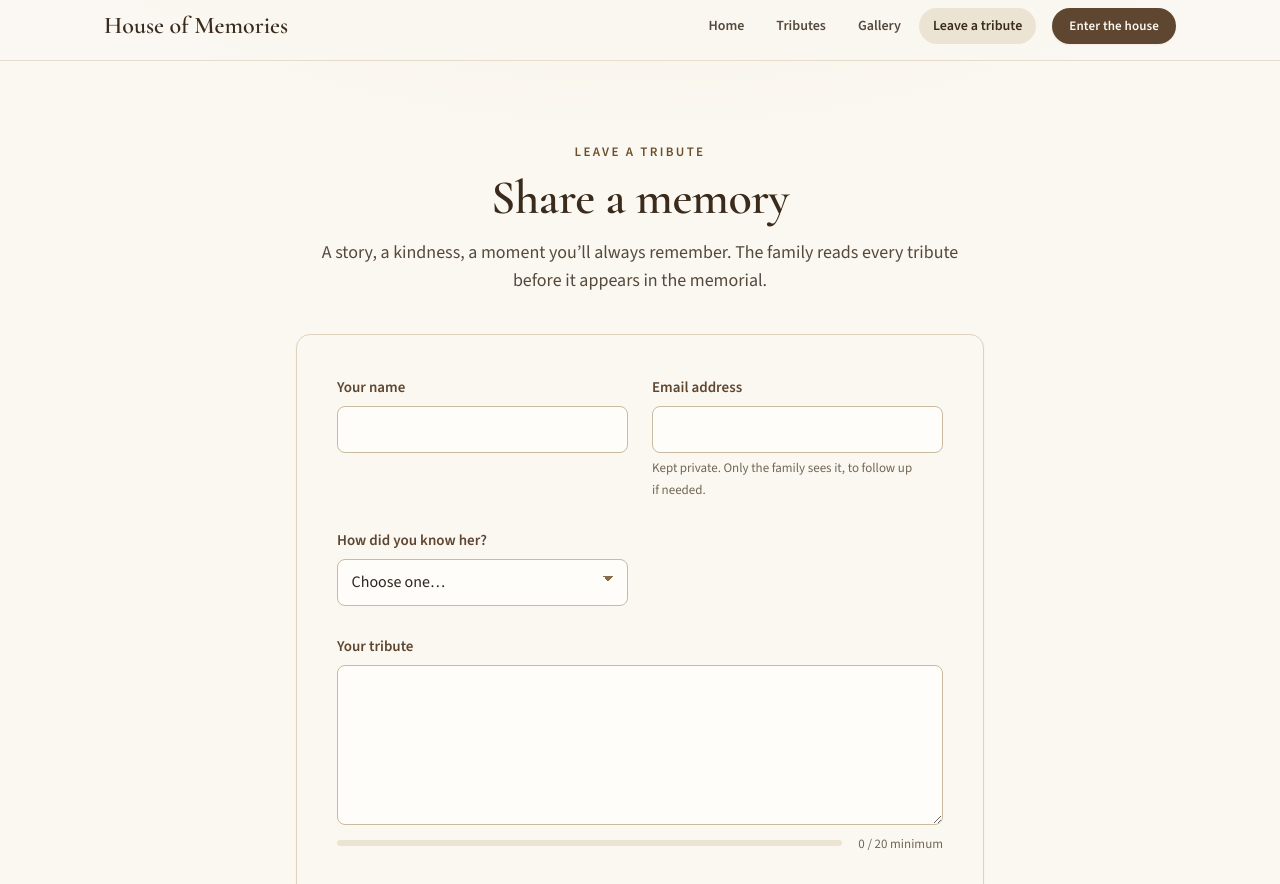
Test: tribute submission form › validates email format, minimum length from config, and the custom relationship for “Other”
This screenshot has width=1280, height=884.
Type "Jane" into the field labelled "Your name" at (482, 430), box top-left (337, 406), bottom-right (628, 453)
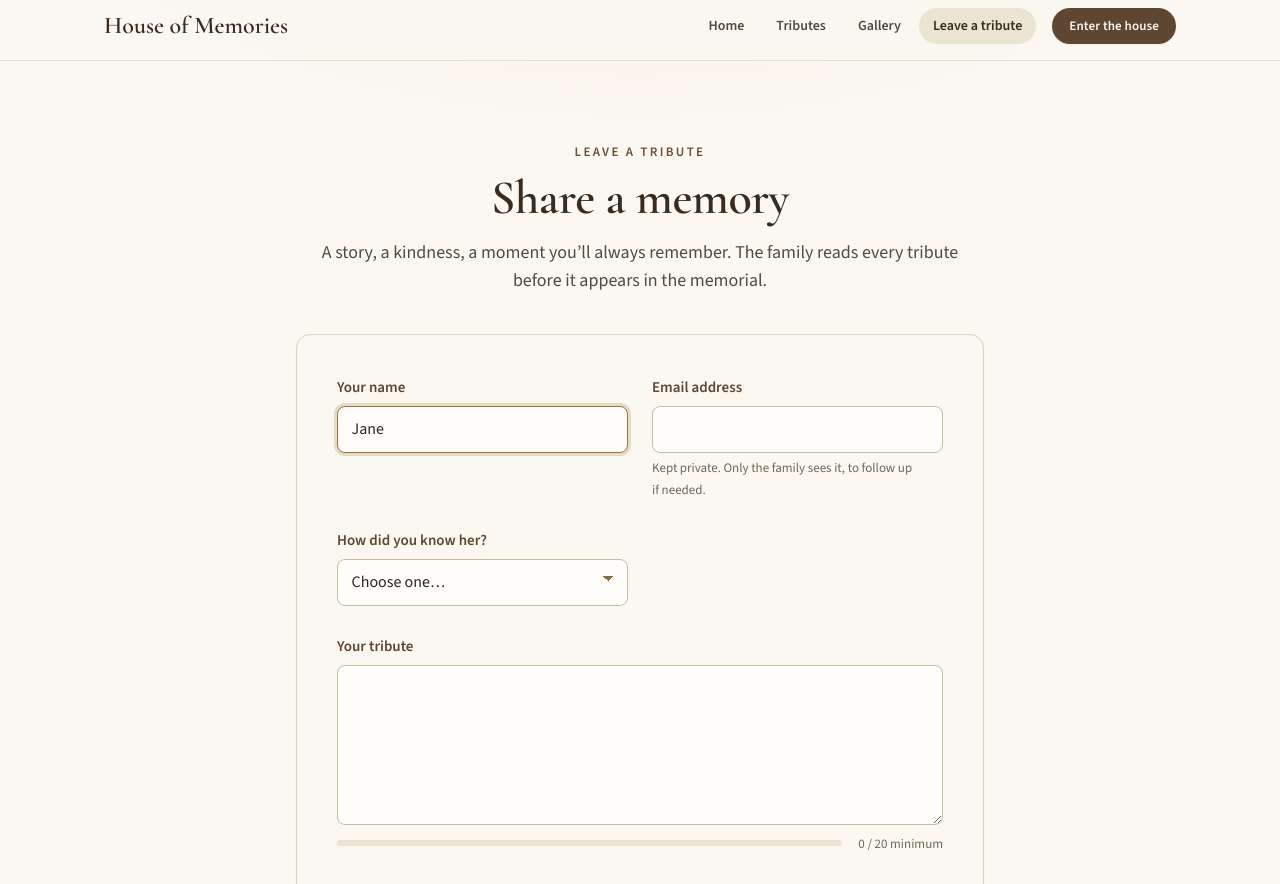
Type "not-an-email" into the field labelled "Email address" at (798, 430), box top-left (652, 406), bottom-right (943, 453)
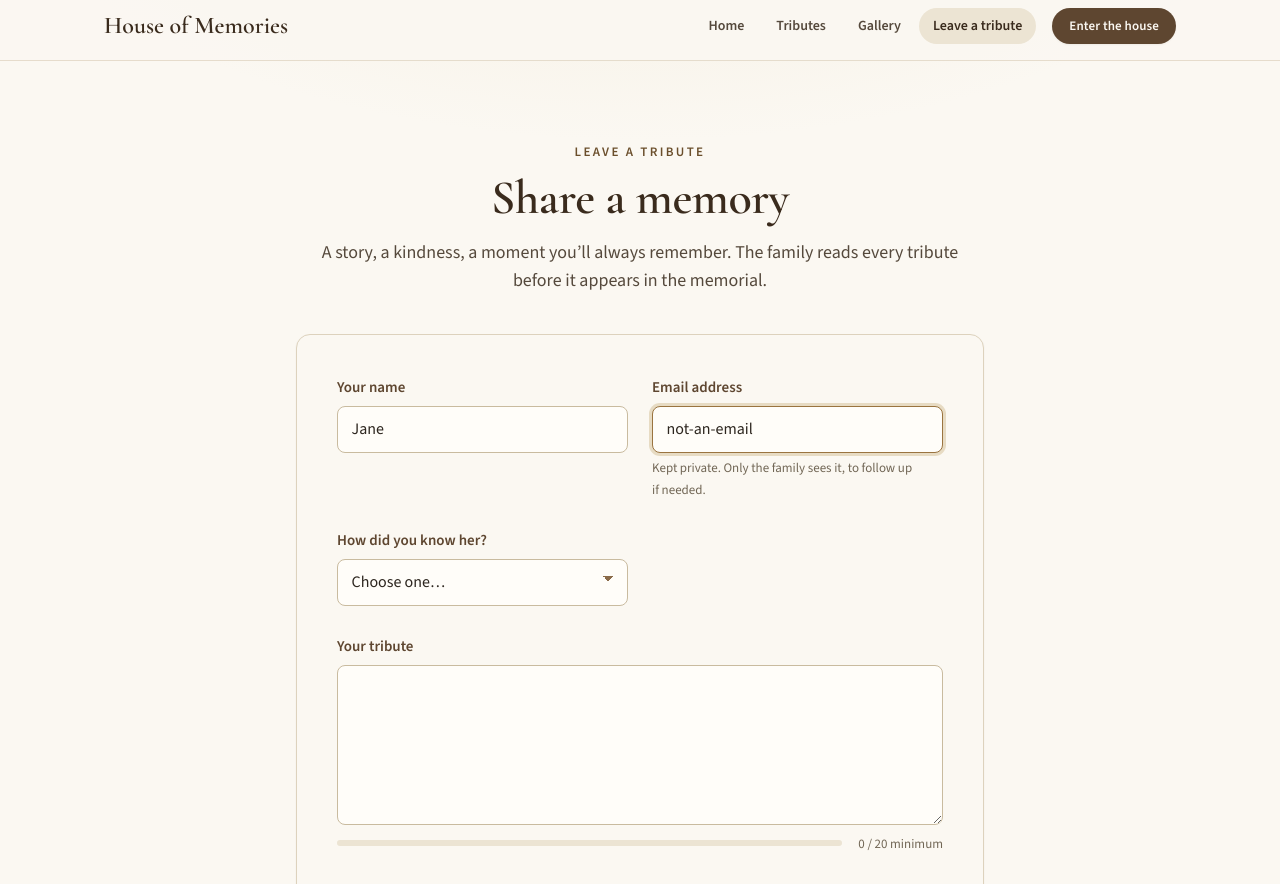
Select "Other" in the dropdown labelled "How did you know her?" at (482, 582), box top-left (337, 559), bottom-right (628, 606)
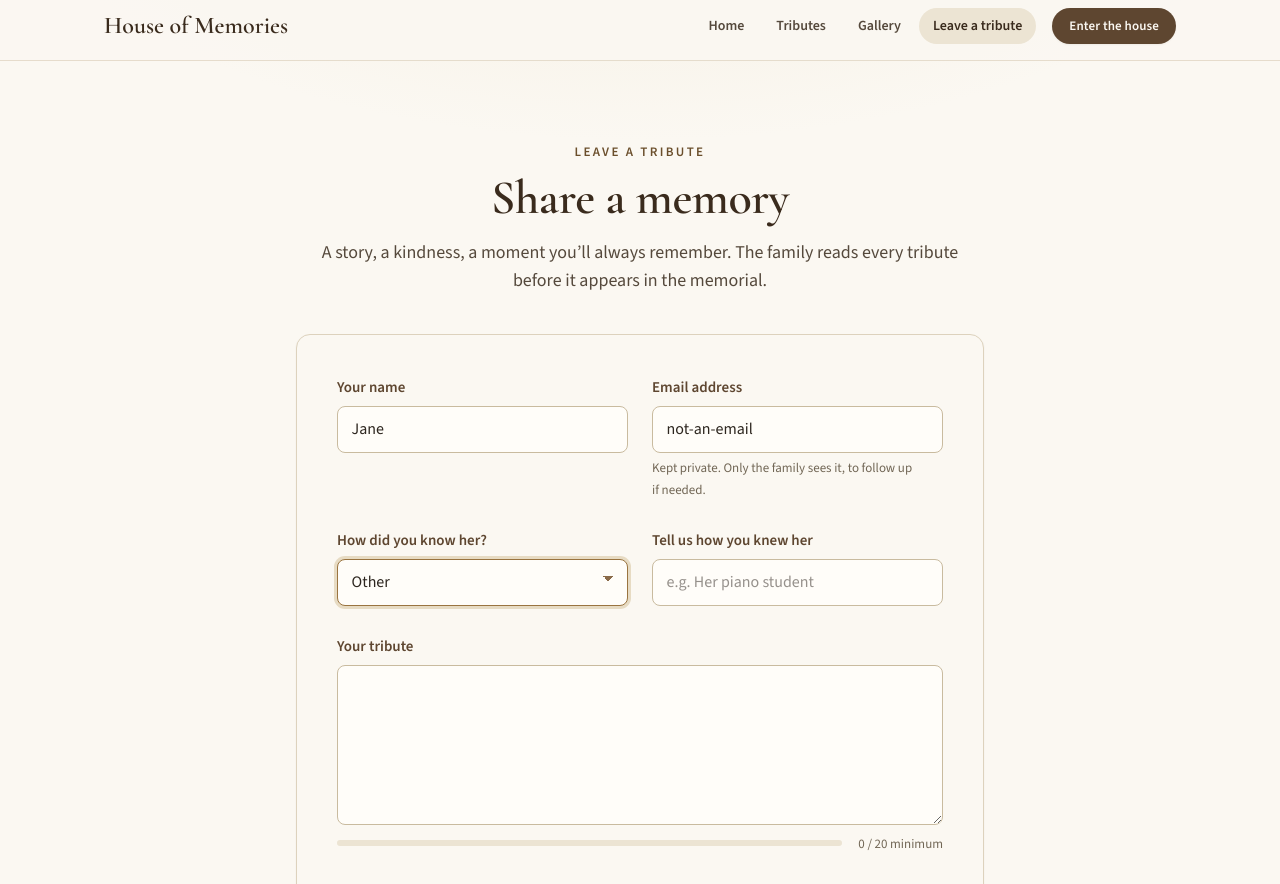
Type "too short" into the text box labelled "Your tribute" at (640, 744), box top-left (337, 664), bottom-right (943, 824)
(page scrolled)
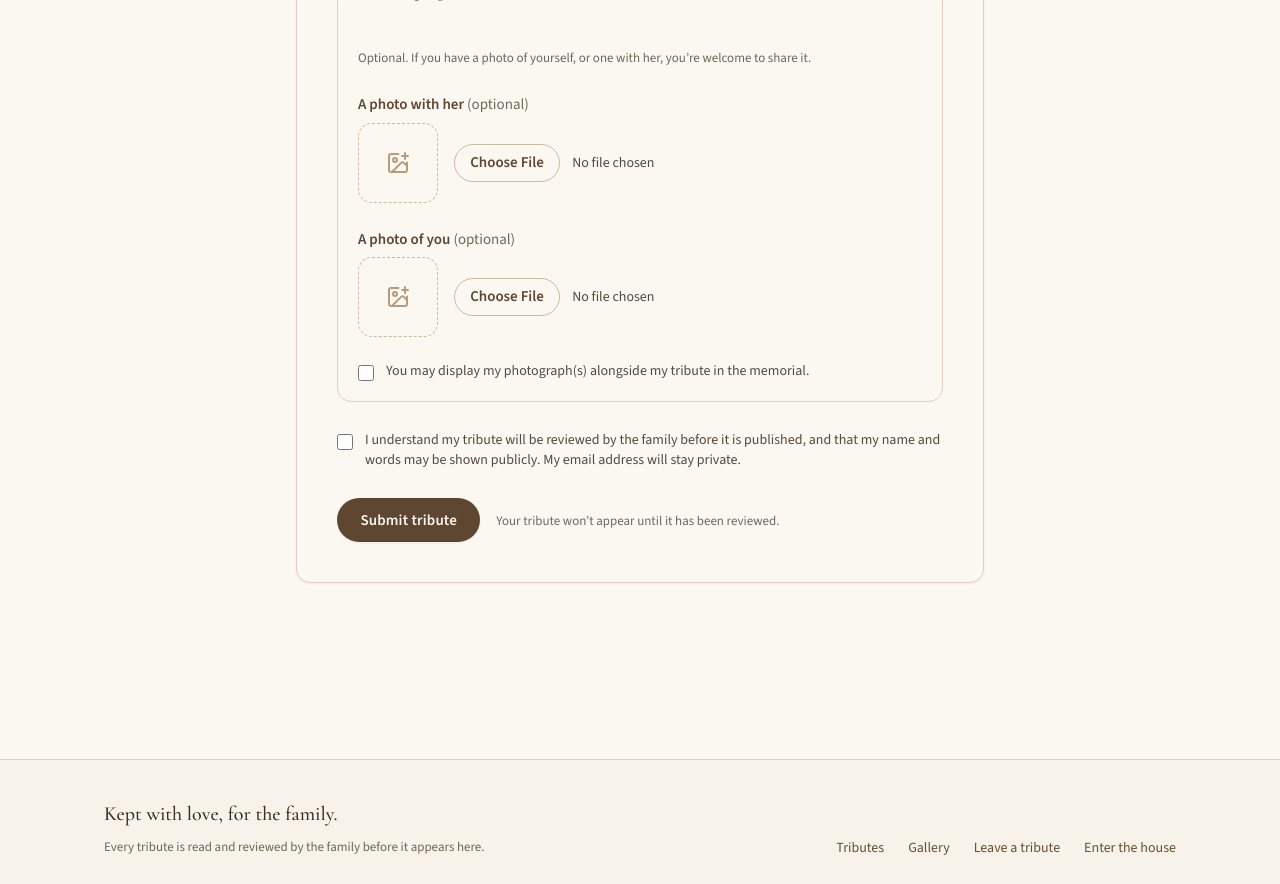
Click the checkbox labelled "I understand my tribute will be reviewed" at (345, 442), box top-left (337, 434), bottom-right (353, 450)
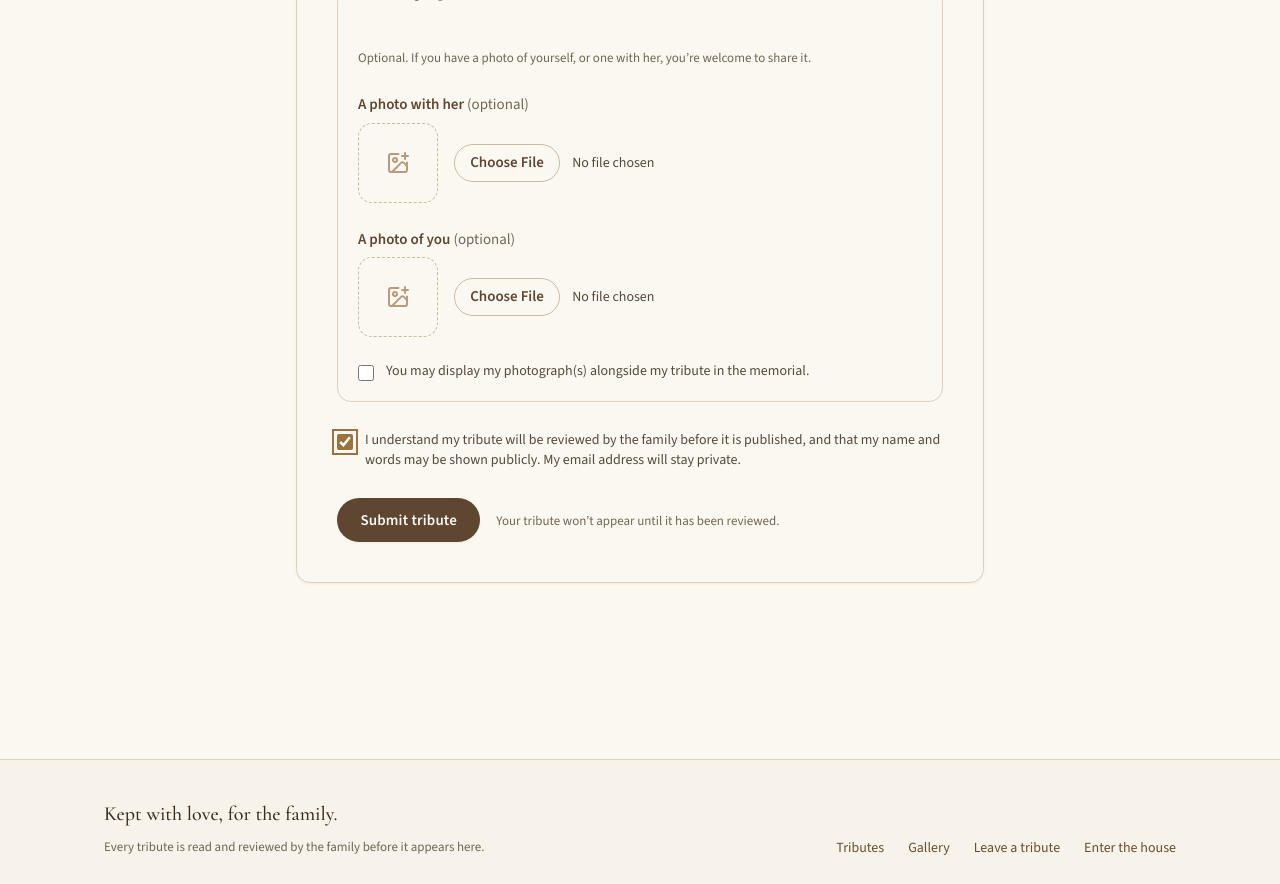
Click the button "Submit tribute" at (409, 520), box top-left (337, 498), bottom-right (480, 542)
(page scrolled)
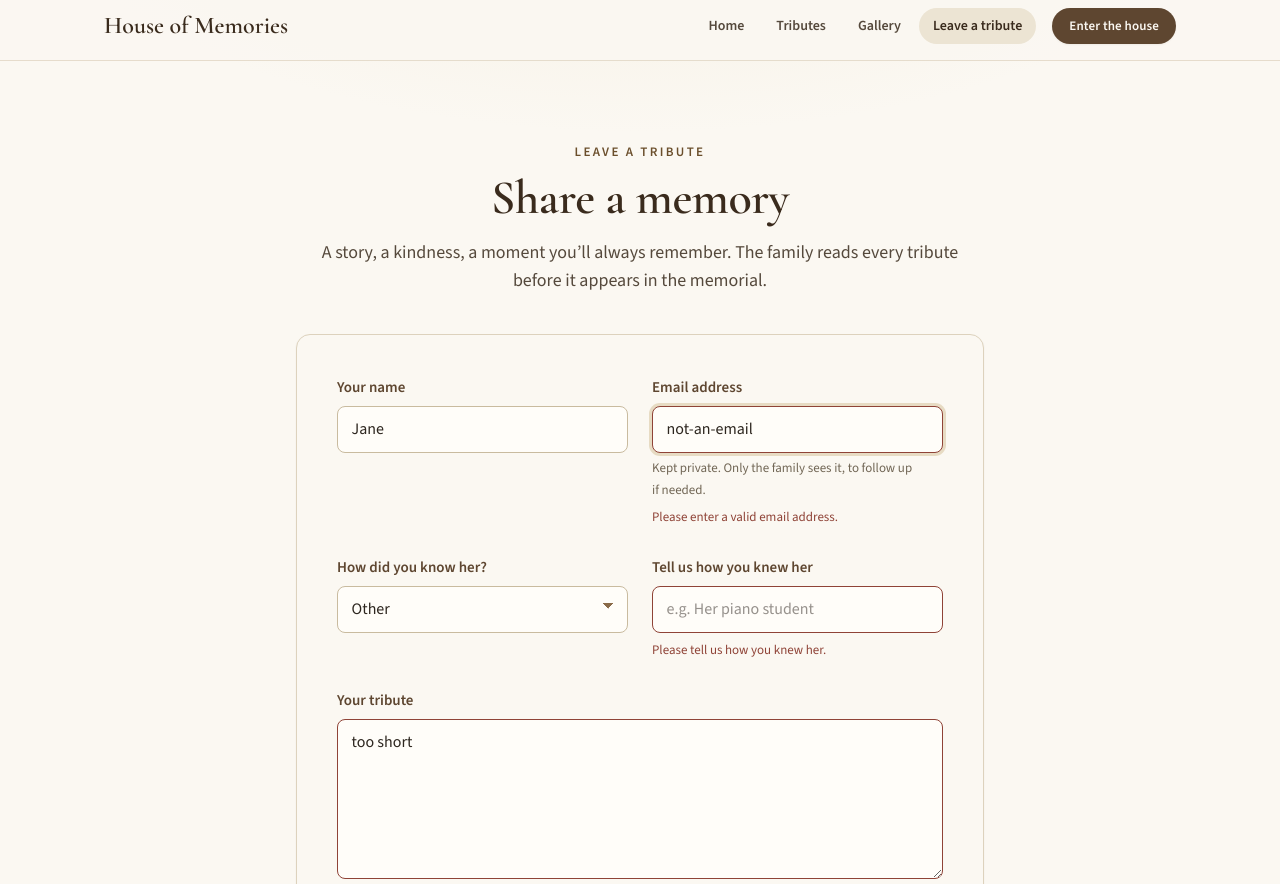
Check: the text "Please enter a valid email address." is shown, box top-left (652, 508), bottom-right (838, 525)
Check: the text "Please tell us how you knew her." is shown, box top-left (652, 641), bottom-right (826, 658)
